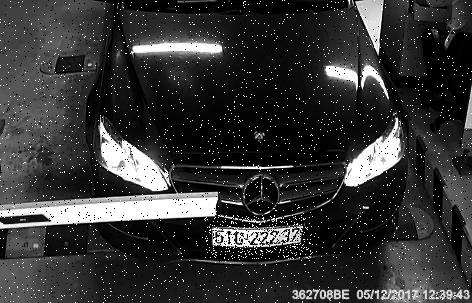License-plate: (207, 216, 315, 260)
